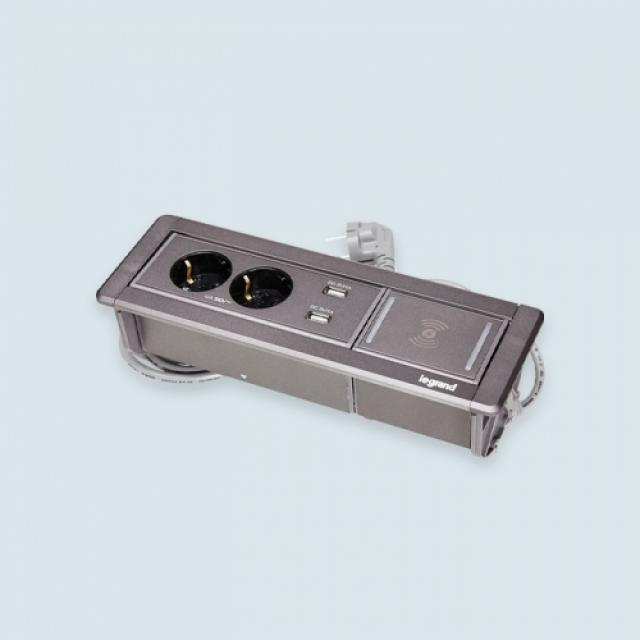typeb: (95, 205, 389, 426)
